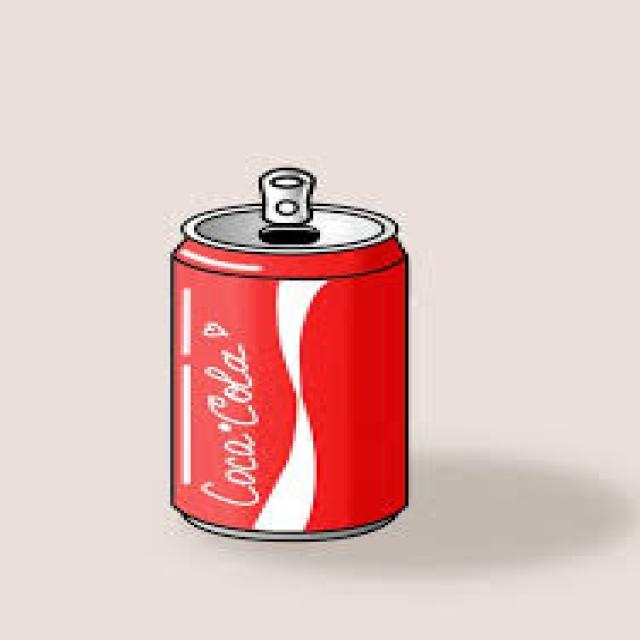Cans: (154, 182, 432, 547)
